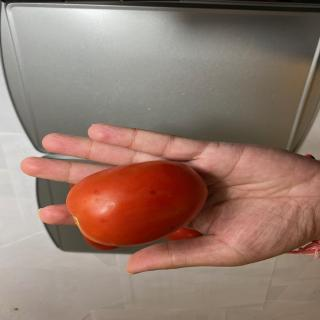Chilli: (65, 160, 208, 247)
Tomato: (165, 227, 203, 241)
